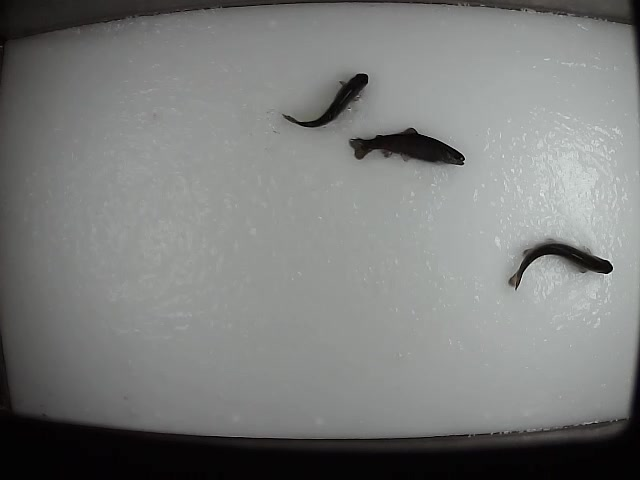Fish: (282, 74, 368, 136), (508, 242, 613, 292), (349, 128, 465, 166)
